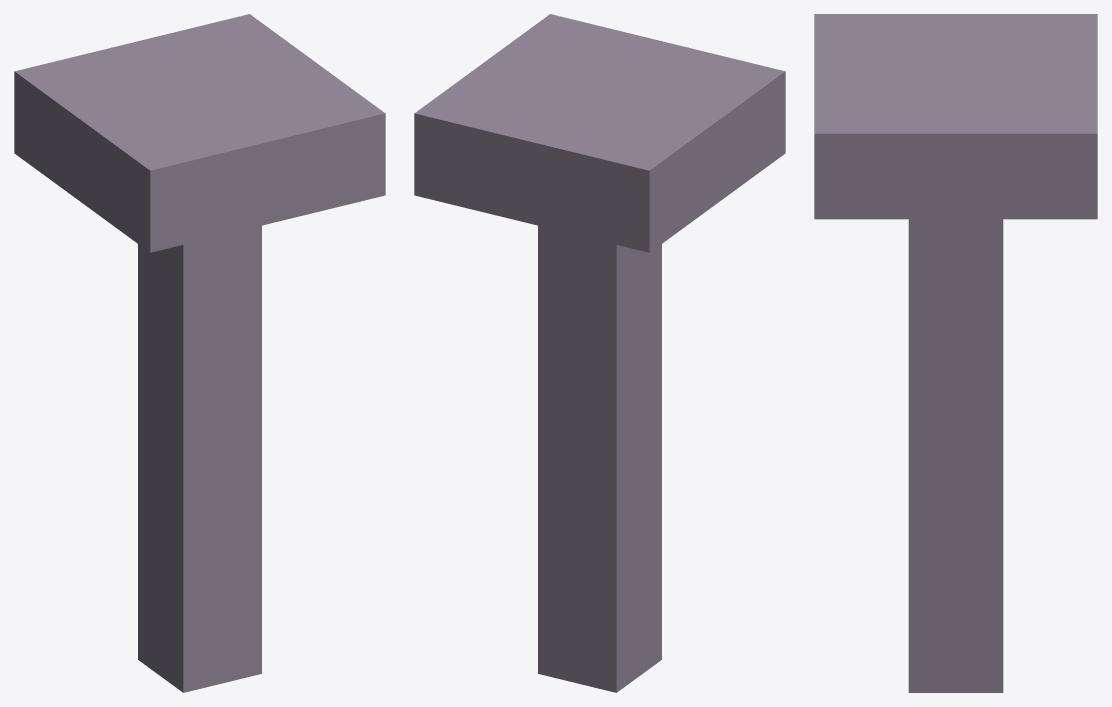
Rendered from IKEA_Clavo.fbx.
The picture shows the model from 3 angles, left to right: view 1: azimuth 30°, elevation 25°; view 2: azimuth 150°, elevation 25°; view 3: azimuth 270°, elevation 25°; orthographic projection. The views are drawn at different scales.
Visible parts, largest first — view 1: IKEA_Clavo; view 2: IKEA_Clavo; view 3: IKEA_Clavo.
Boxes of the visible parts, x1=… form: IKEA_Clavo: x1=14, y1=14, x2=385, y2=692; IKEA_Clavo: x1=414, y1=14, x2=785, y2=692; IKEA_Clavo: x1=814, y1=14, x2=1097, y2=692.
Bounding box in the file's own units: 30 × 70 × 30.
